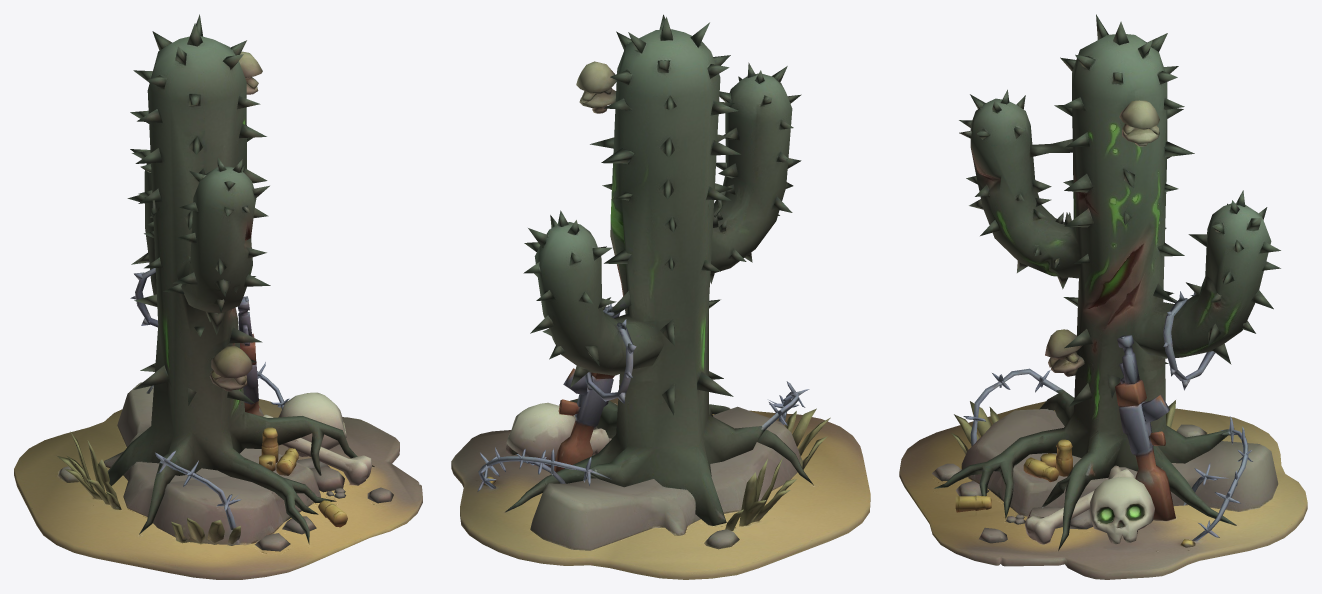
File: tripo_convert_04ca20c2-81f2-410f-97bd-dc58c11e6a10.fbx
The picture shows the model from 3 angles, left to right: view 1: azimuth 30°, elevation 25°; view 2: azimuth 150°, elevation 25°; view 3: azimuth 270°, elevation 25°; orthographic projection. The views are drawn at different scales.
Visible parts, largest first — view 1: tripo_node_04ca20c2; view 2: tripo_node_04ca20c2; view 3: tripo_node_04ca20c2.
Boxes of the visible parts, x1,y1,x2,y2 form: tripo_node_04ca20c2: (14,14,422,579); tripo_node_04ca20c2: (451,14,870,579); tripo_node_04ca20c2: (899,14,1307,579).
Bounding box in the file's own units: 0.8027 × 0.998 × 0.7949.
1 material, 1 textured.
